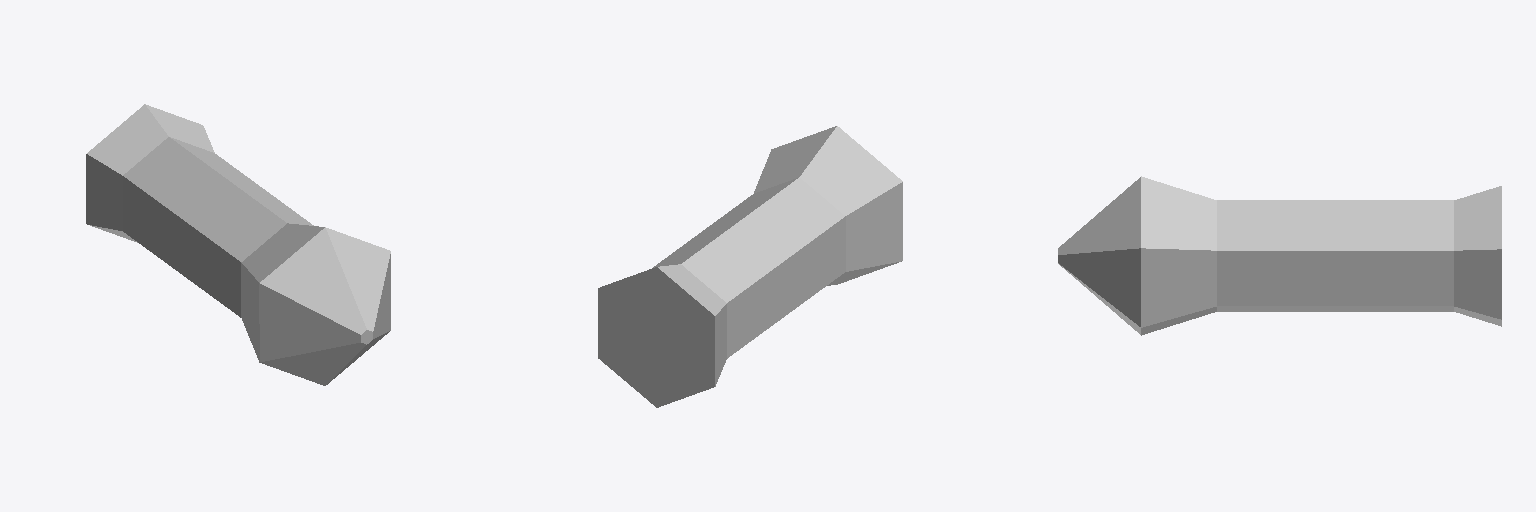
File: missile.obj
3 views of the same model, side by side, from view 1: azimuth 30°, elevation 25°; view 2: azimuth 150°, elevation 25°; view 3: azimuth 270°, elevation 25° (orthographic).
Visible parts, largest first — view 1: Missile_Missile_Material; view 2: Missile_Missile_Material; view 3: Missile_Missile_Material.
Boxes of the visible parts, x1,y1,x2,y2 form: Missile_Missile_Material: [86, 104, 390, 385]; Missile_Missile_Material: [598, 126, 902, 407]; Missile_Missile_Material: [1058, 176, 1501, 335].
Bounding box in the file's own units: 0.4727 × 0.5458 × 1.38.